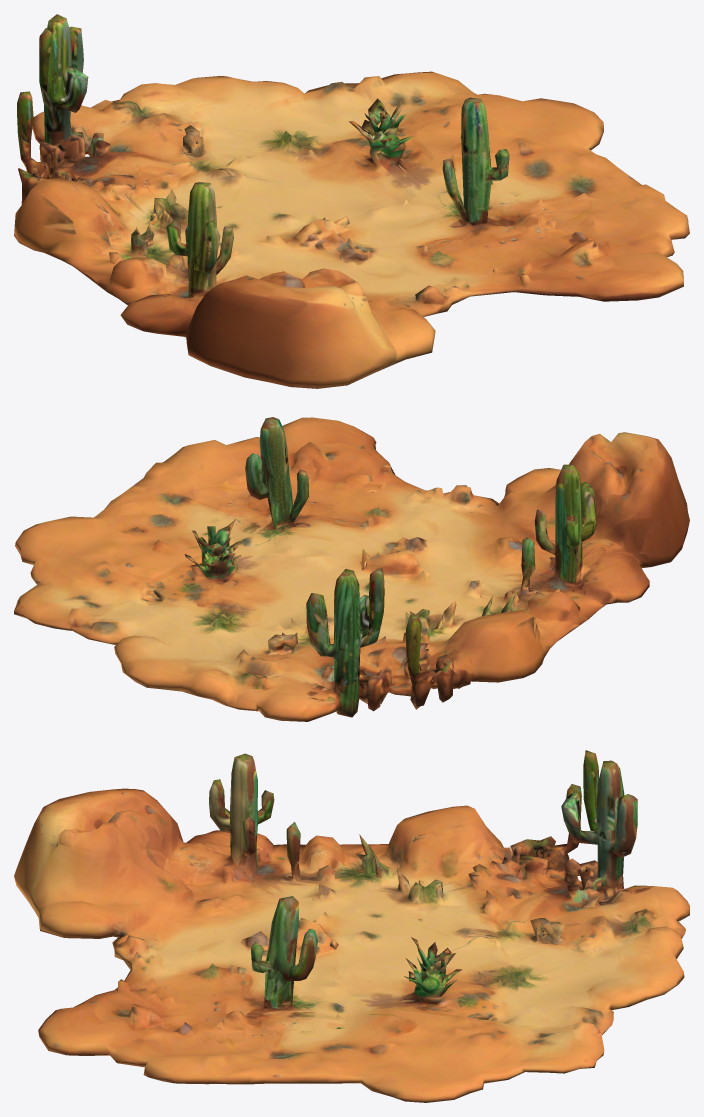
File: Light_Desert.glb
3 views of the same model, one above another, from view 1: azimuth 30°, elevation 25°; view 2: azimuth 150°, elevation 25°; view 3: azimuth 270°, elevation 25° (orthographic). The views are drawn at different scales.
Visible parts, largest first — view 1: Mesh_0; view 2: Mesh_0; view 3: Mesh_0.
Boxes of the visible parts, x1,y1,x2,y2 form: Mesh_0: (14, 14, 689, 388); Mesh_0: (14, 417, 689, 721); Mesh_0: (14, 750, 689, 1102).
Bounding box in the file's own units: 0.7043 × 0.2 × 0.7576.
1 material, 1 textured.
